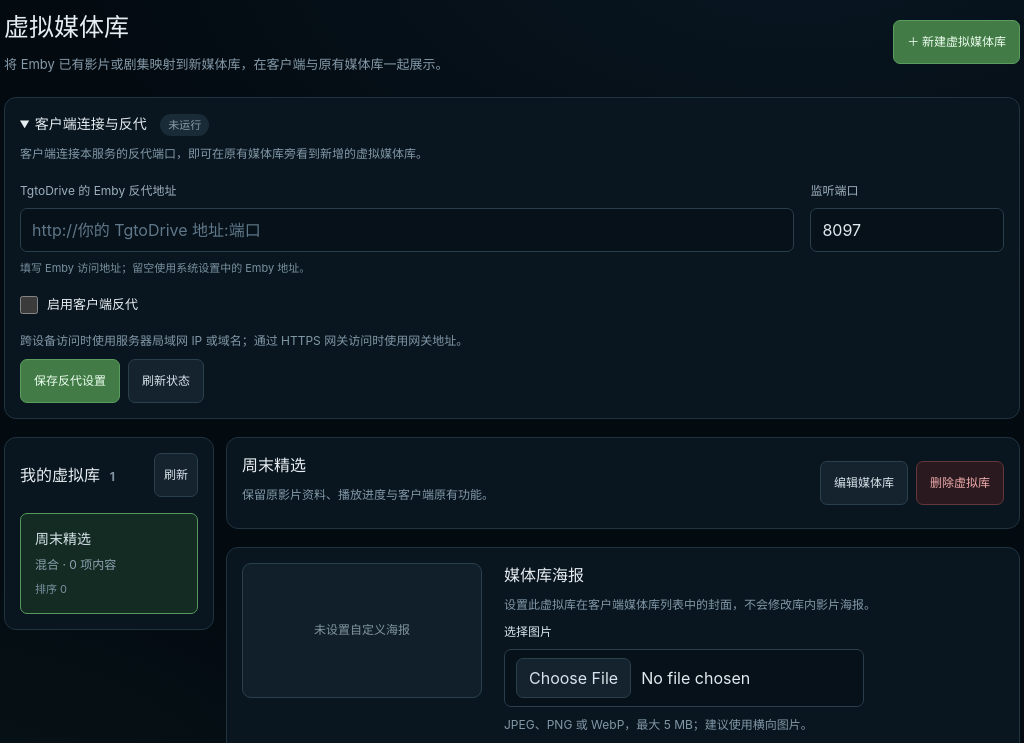
Test: saves the enabled reverse proxy and displays the actual listening port
In the field labelled "TgtoDrive 的 Emby 反代地址 填写 Emby 访问地址；留空使用系统设置中的 Emby 地址。": [407, 230] box [20,208,794,252], type "http://tgtd.local:8096"
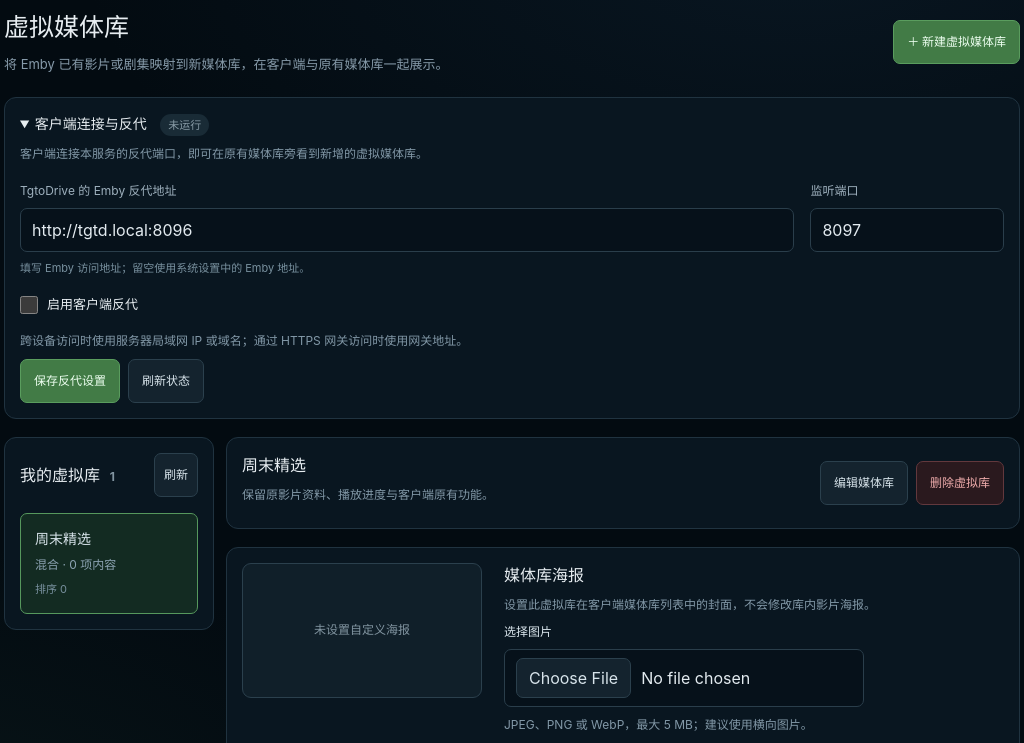
Replace the text in the number field labelled "监听端口" with "8098": [907, 230] box [810,208,1004,252]
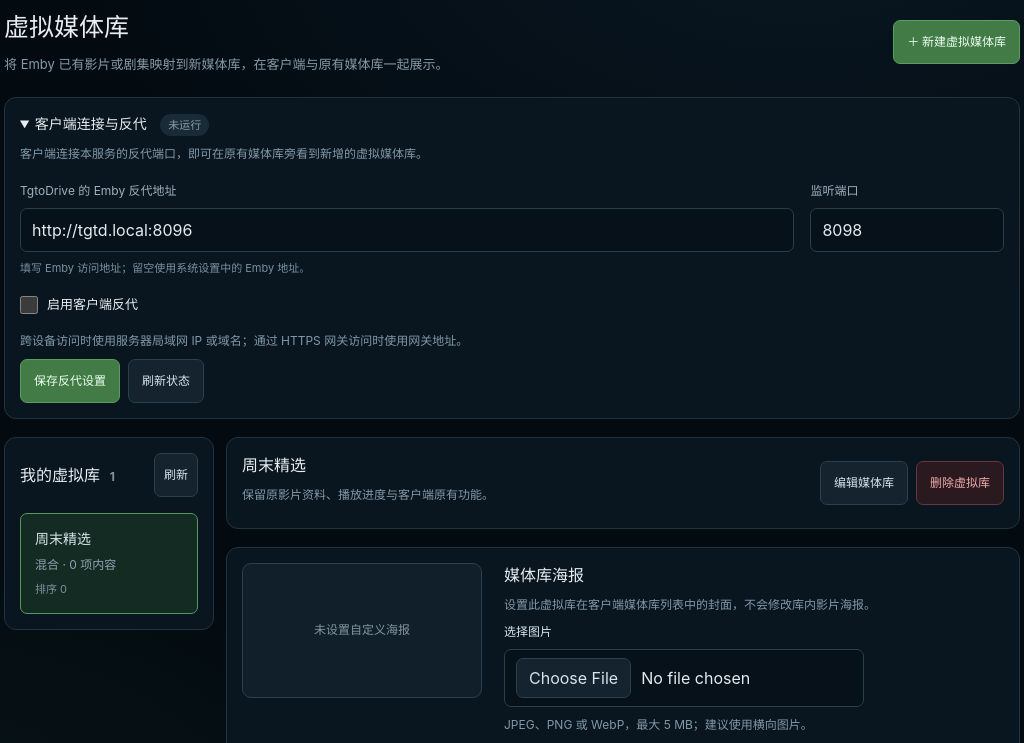
Click the checkbox labelled "启用客户端反代": [29, 305] box [20,296,38,314]
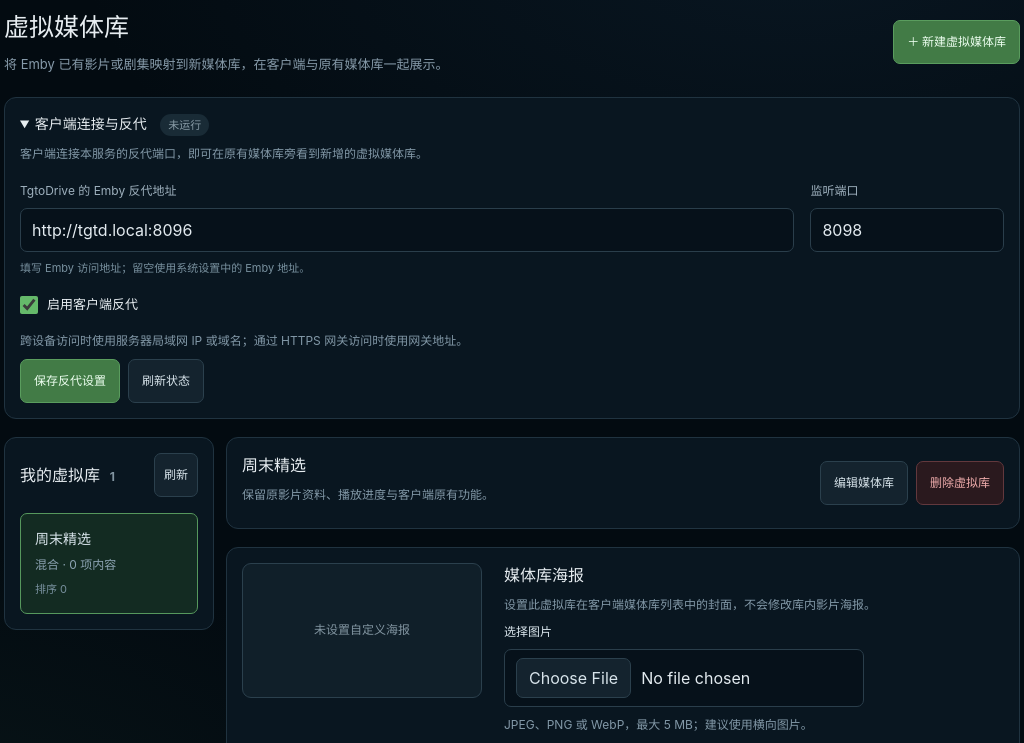
Click the button "保存反代设置": [70, 381] box [20,359,120,403]
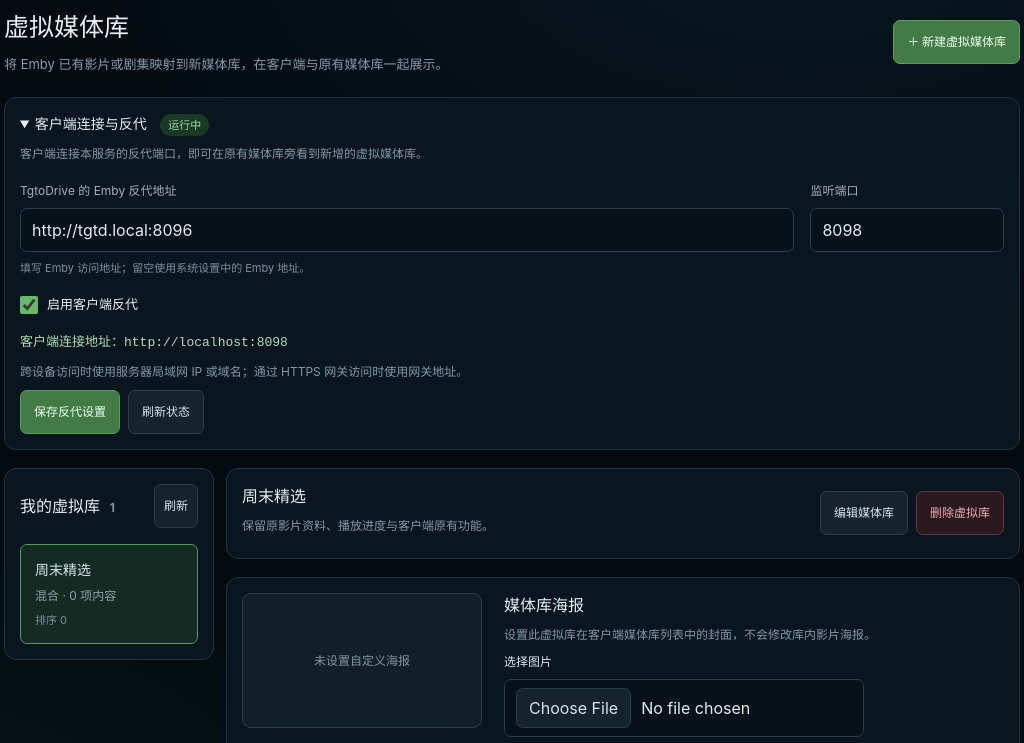
Expected: the text "http://localhost:8098" is shown, [124,335,288,350]
